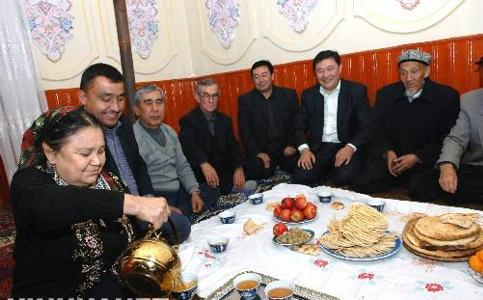person: (9, 107, 172, 299)
